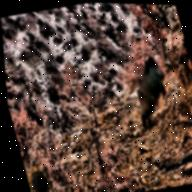boar: (119, 49, 179, 133)
